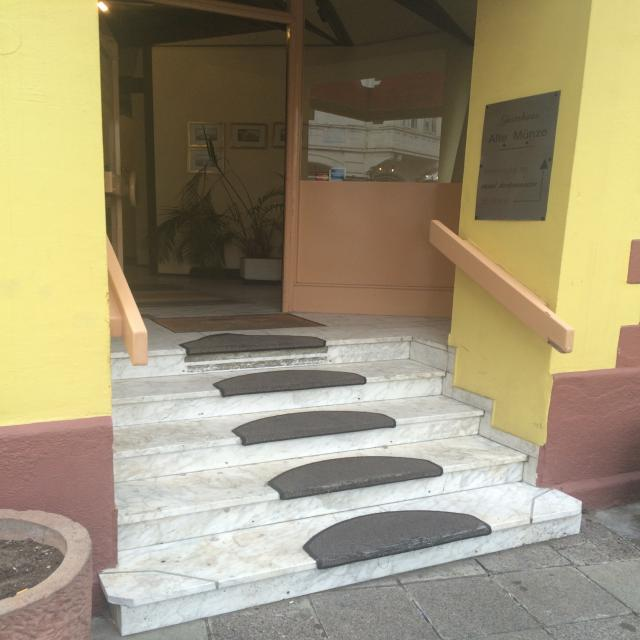AVOID: (83, 336, 589, 631)
